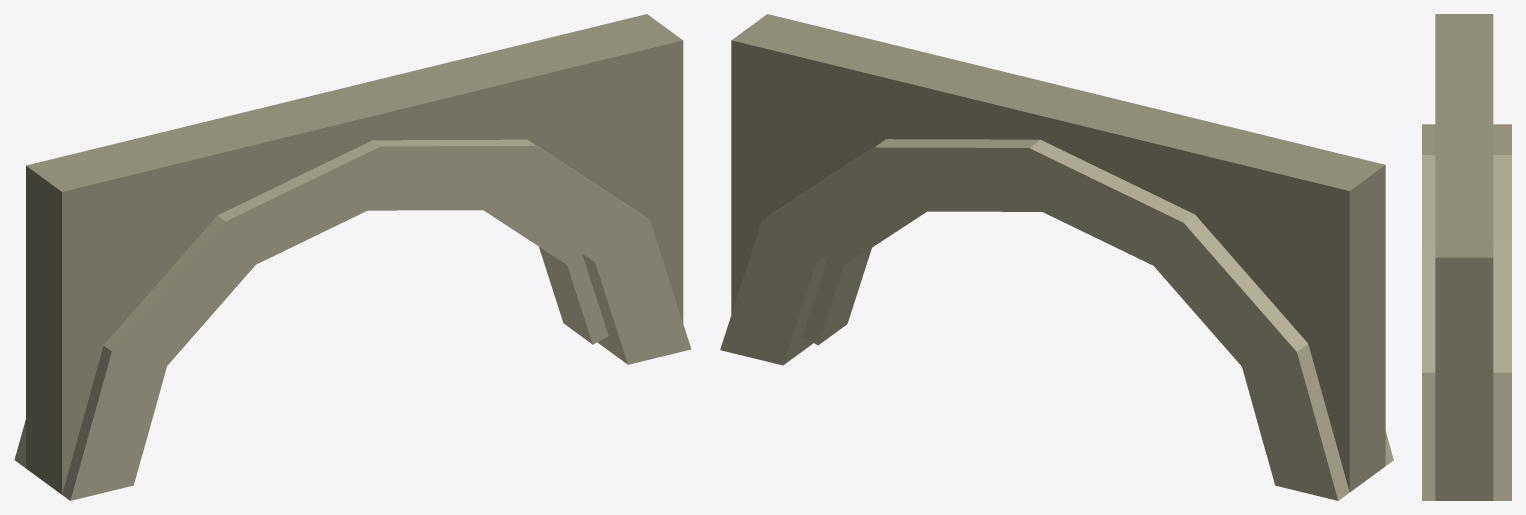
File: Arch.fbx
3 renders of one model, left to right at view 1: azimuth 30°, elevation 25°; view 2: azimuth 150°, elevation 25°; view 3: azimuth 270°, elevation 25°, orthographic. The views are drawn at different scales.
Parts seen in each view (by area): view 1: Arch; view 2: Arch; view 3: Arch.
Boxes of the visible parts, bbox=[...] form: Arch: bbox=[14, 14, 691, 500]; Arch: bbox=[720, 14, 1393, 500]; Arch: bbox=[1422, 14, 1511, 500].
Bounding box in the file's own units: 252 × 117 × 39.2.
